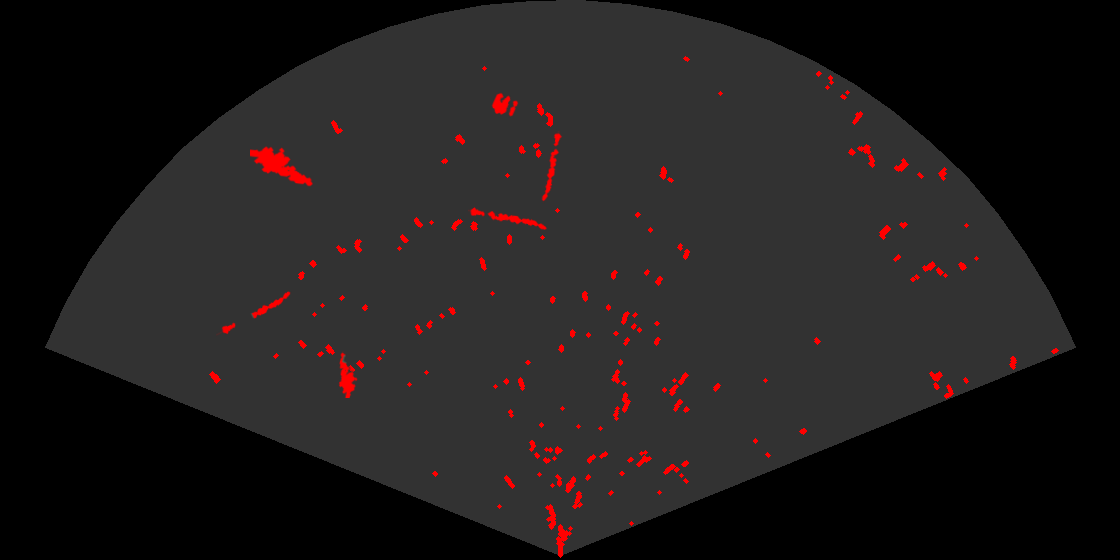ball: (490, 91, 520, 118)
chain: (216, 290, 292, 337), (468, 206, 549, 231), (540, 131, 564, 204)
frogman: (250, 145, 314, 188), (337, 351, 359, 398)
